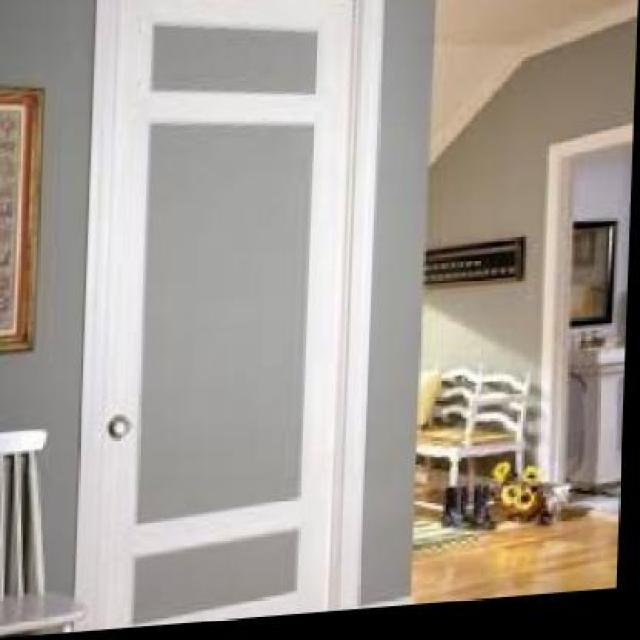door_local: (83, 0, 358, 629), (544, 124, 629, 505)
